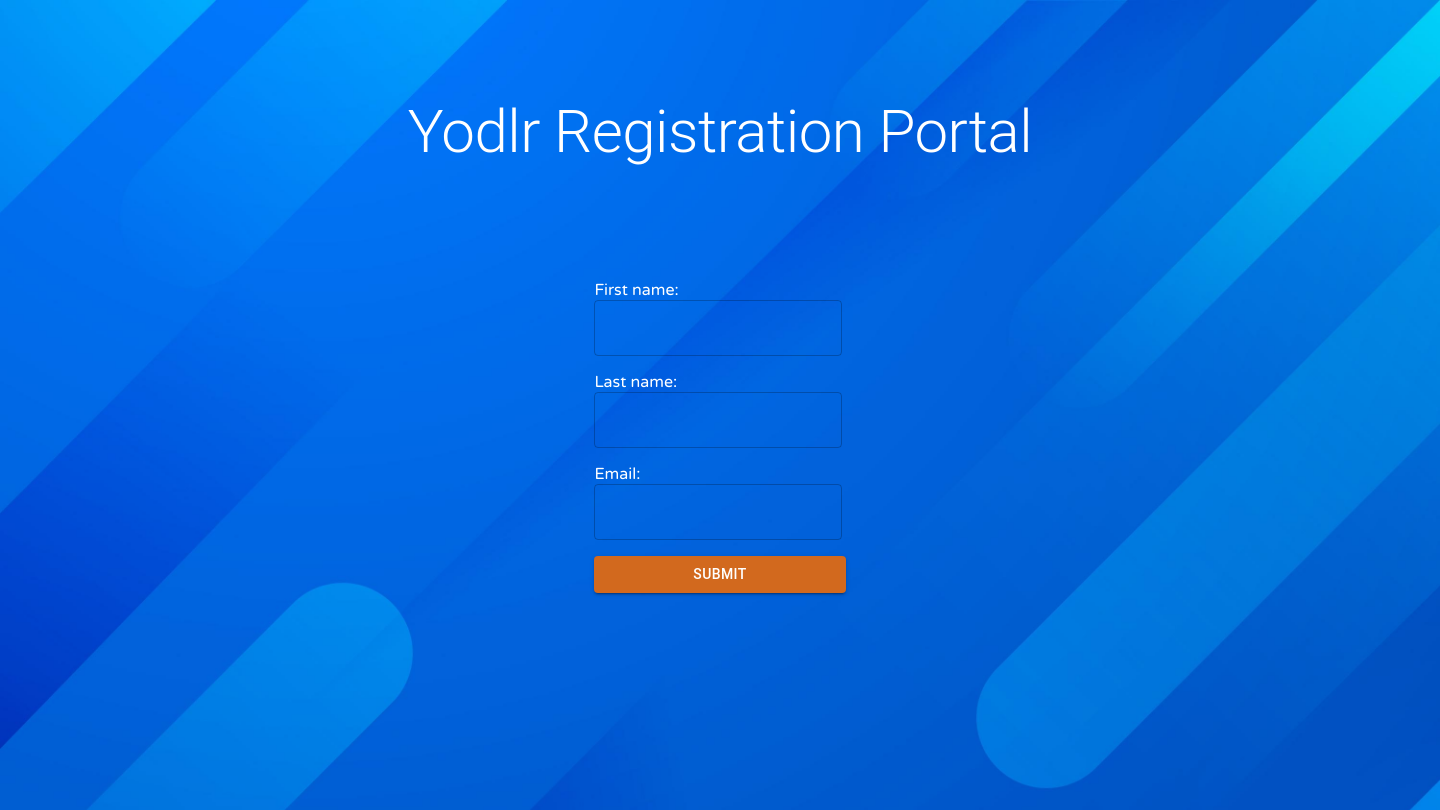
Scenario: handles submit button click
Expected: the text "Welcome to Yodlr, !" is not shown
Click the button "Submit" at [720, 574], box [594, 556, 846, 592]
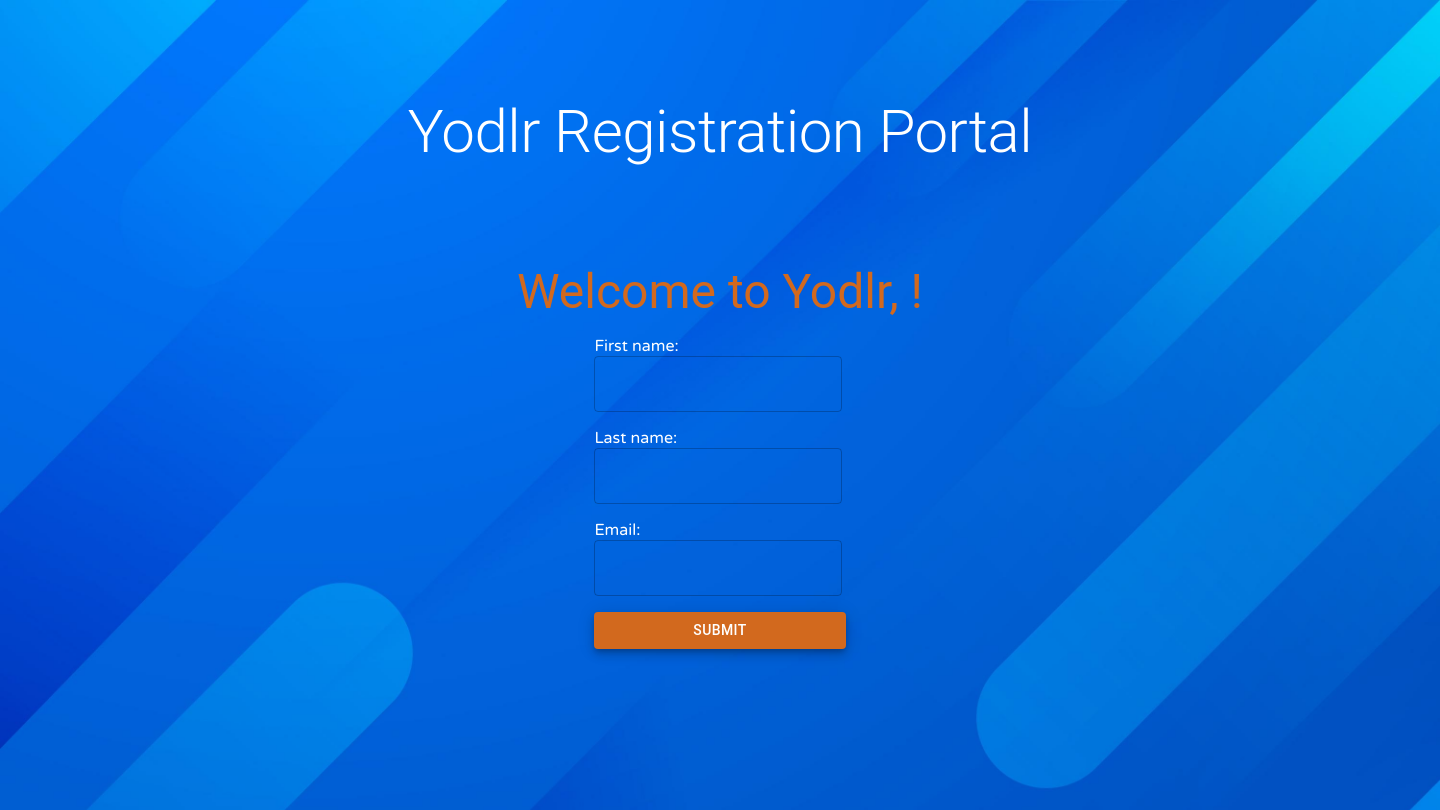
Result: the heading "Welcome to Yodlr, !" is shown at [517, 264, 923, 320]
